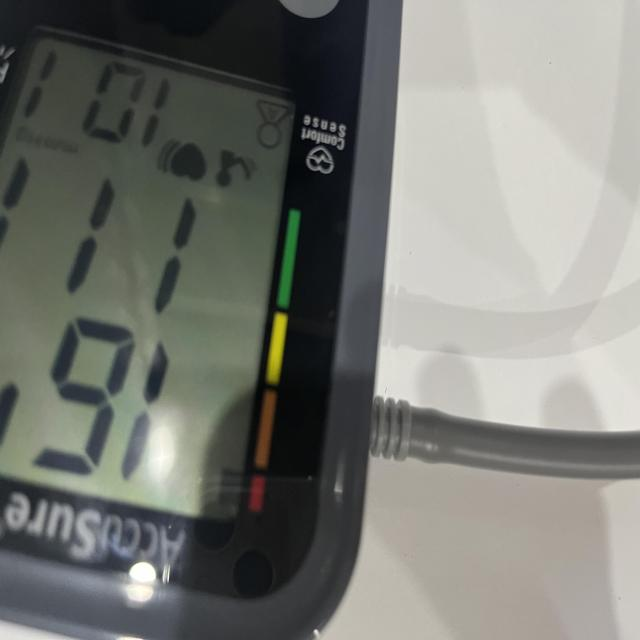bp: (0, 0, 402, 640)
